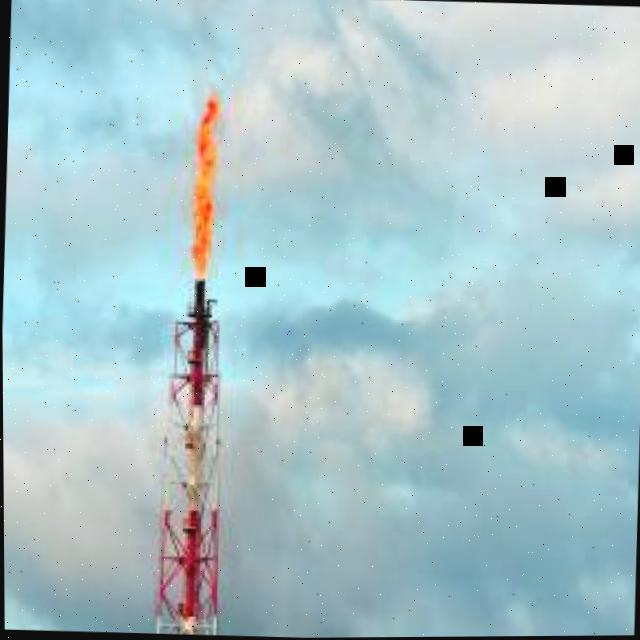fire: (190, 91, 219, 279)
